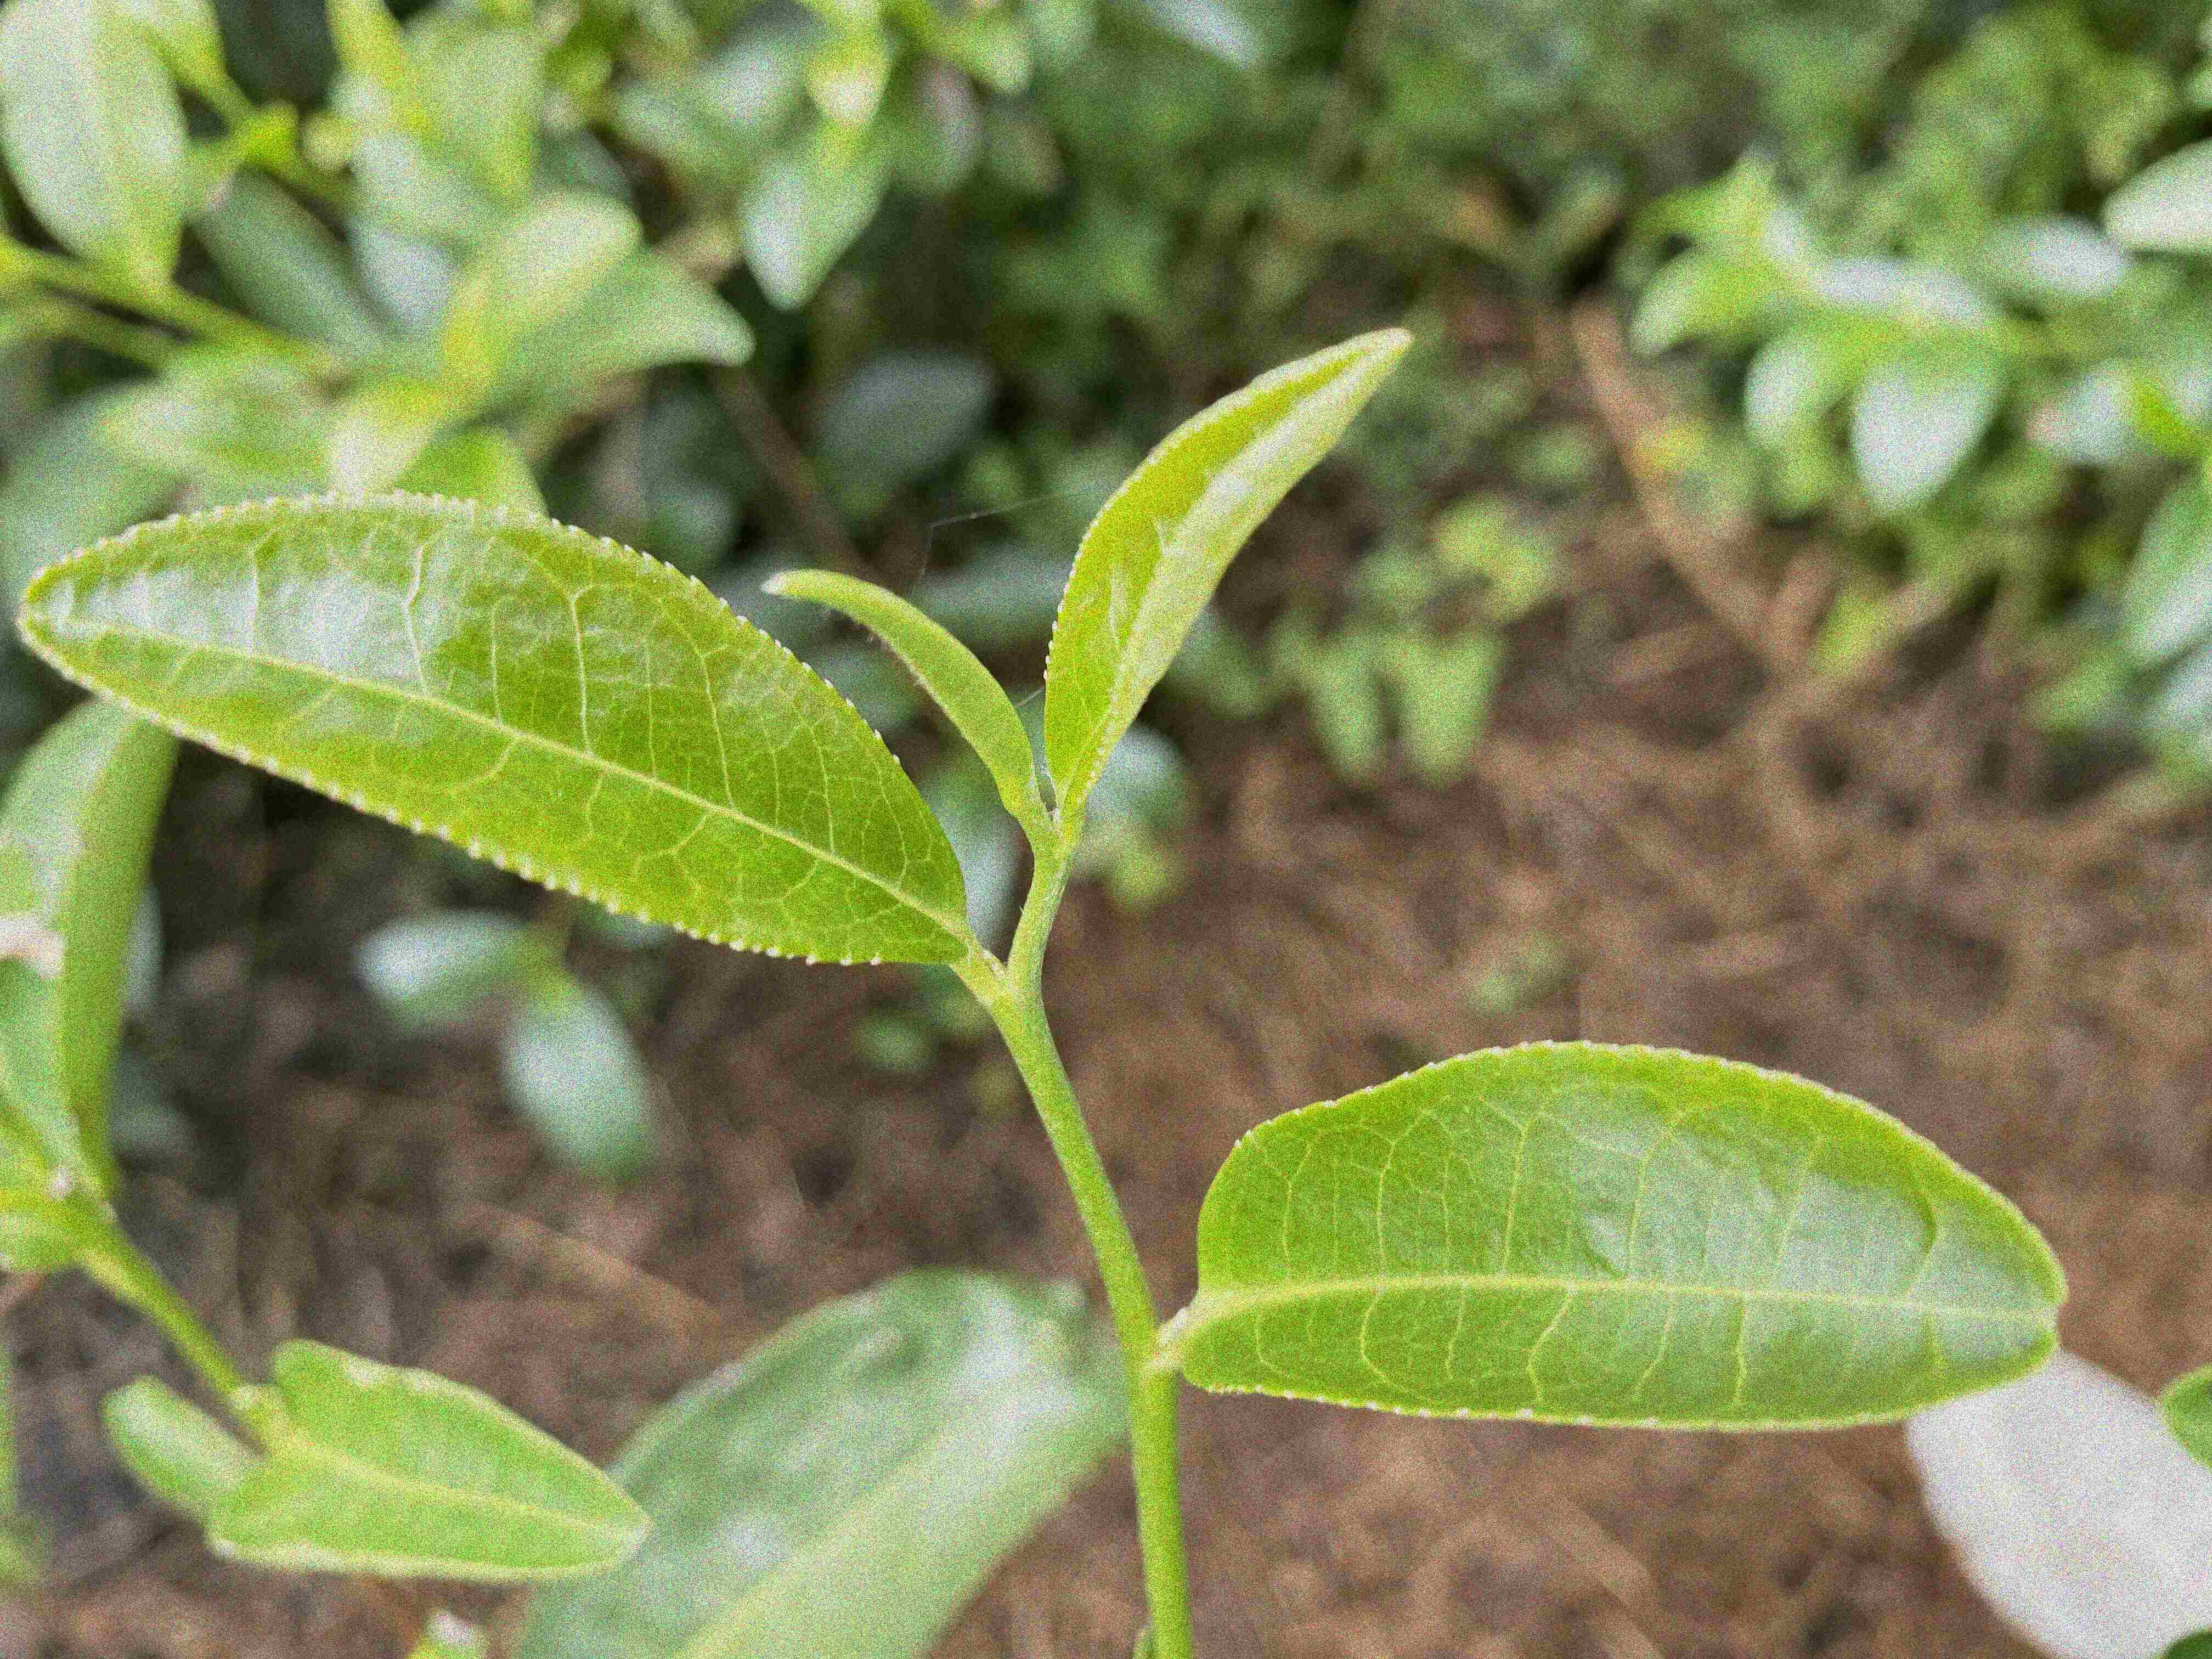healthy: (14, 486, 970, 971), (1183, 1035, 2069, 1434), (1042, 328, 1414, 812)
